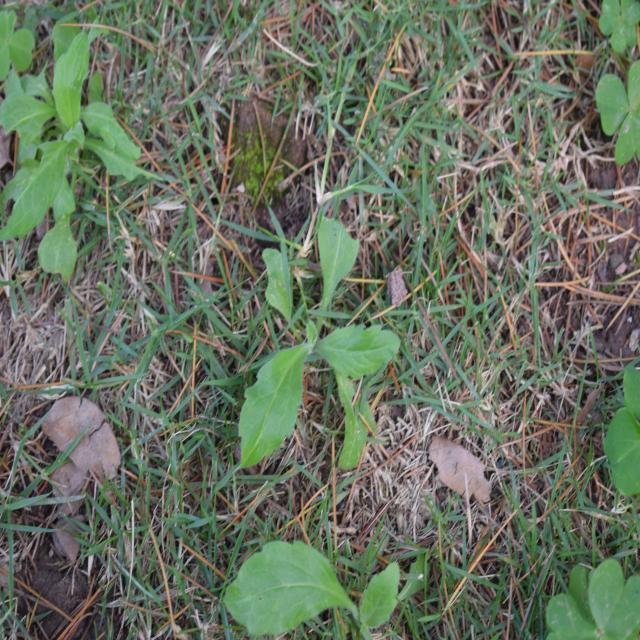horseweed: (237, 236, 408, 470)
